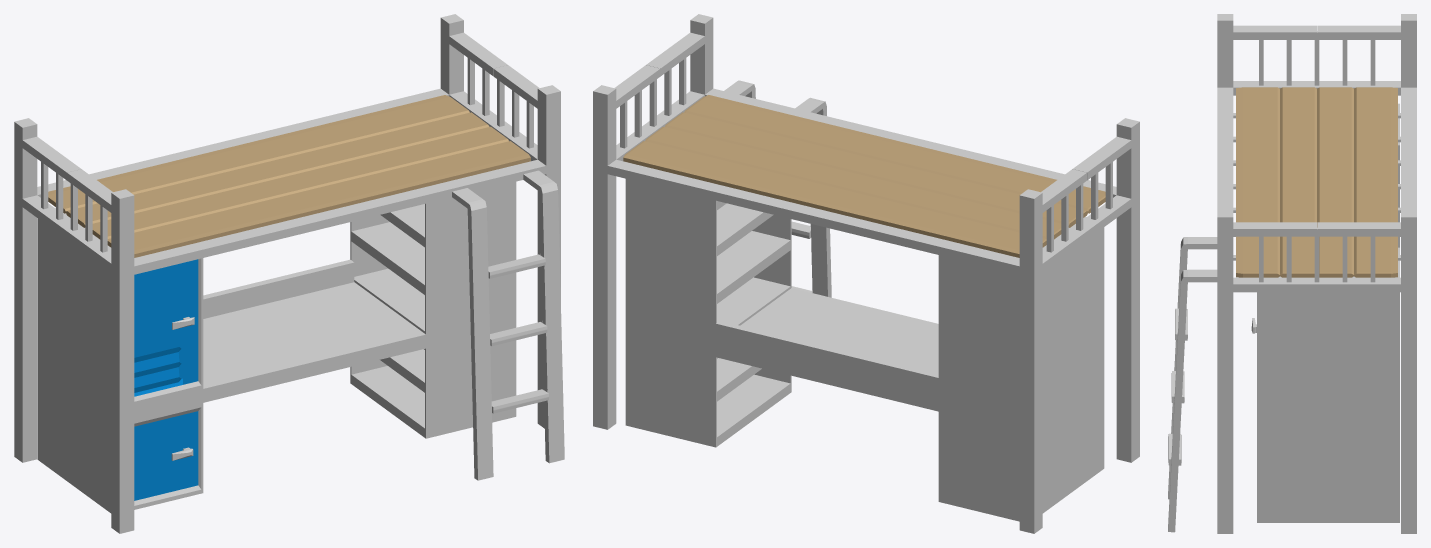
The model's file is 宿舍床.fbx.
3 views of the same model, side by side, from view 1: azimuth 30°, elevation 25°; view 2: azimuth 150°, elevation 25°; view 3: azimuth 270°, elevation 25° (orthographic). The views are drawn at different scales.
Parts seen in each view (by area): view 1: 床下桌, 床架, 床板; view 2: 床下桌, 床架, 床板; view 3: 床下桌, 床架, 床板.
Boxes of the visible parts, left/top/right/bottom form: 床下桌: left=37, top=181, right=516, bottom=513; 床架: left=14, top=14, right=564, bottom=533; 床板: left=48, top=95, right=530, bottom=257; 床下桌: left=625, top=179, right=1104, bottom=521; 床架: left=593, top=14, right=1139, bottom=533; 床板: left=623, top=95, right=1105, bottom=257; 床下桌: left=1251, top=103, right=1399, bottom=522; 床架: left=1168, top=14, right=1416, bottom=533; 床板: left=1236, top=87, right=1397, bottom=277.
Size of the model in its own units: 786 by 586 by 406.
